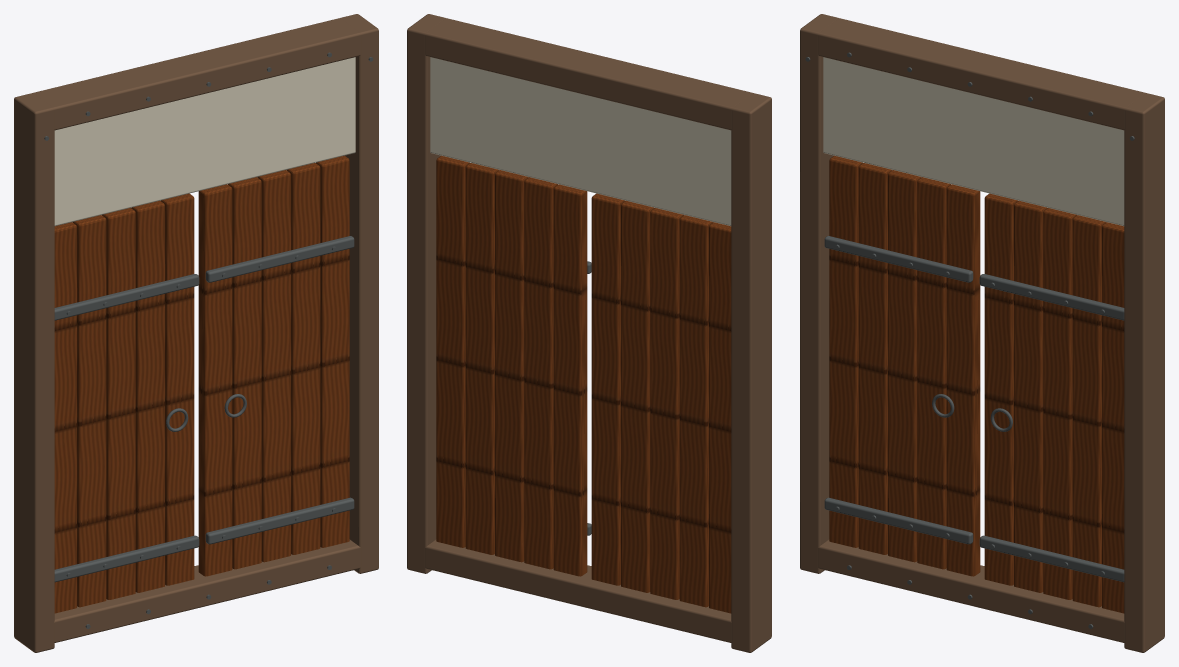
File: adventurers-tavern-and-guild-hall-double-doorway-382923f0__24669.glb
The picture shows the model from 3 angles, left to right: view 1: azimuth 30°, elevation 25°; view 2: azimuth 150°, elevation 25°; view 3: azimuth 330°, elevation 25°; orthographic projection.
Parts seen in each view (by area): view 1: double-doorway, door-2 (×2), door-1 (×2); view 2: double-doorway, door-2, door-1; view 3: double-doorway, door-1 (×2), door-2 (×2).
Part boxes in pixels (left/top/right/bottom): double-doorway: left=14, top=14, right=378, bottom=652; door-2 (×2): left=198, top=155, right=354, bottom=576; door-1 (×2): left=54, top=193, right=199, bottom=613; double-doorway: left=407, top=14, right=771, bottom=652; door-2: left=436, top=155, right=587, bottom=576; door-1: left=591, top=193, right=731, bottom=613; double-doorway: left=800, top=14, right=1164, bottom=652; door-1 (×2): left=824, top=155, right=980, bottom=576; door-2 (×2): left=979, top=193, right=1124, bottom=613.
Size of the model in its own units: 2 by 3 by 0.2391.
Materials: 4 (1 with a texture image).
